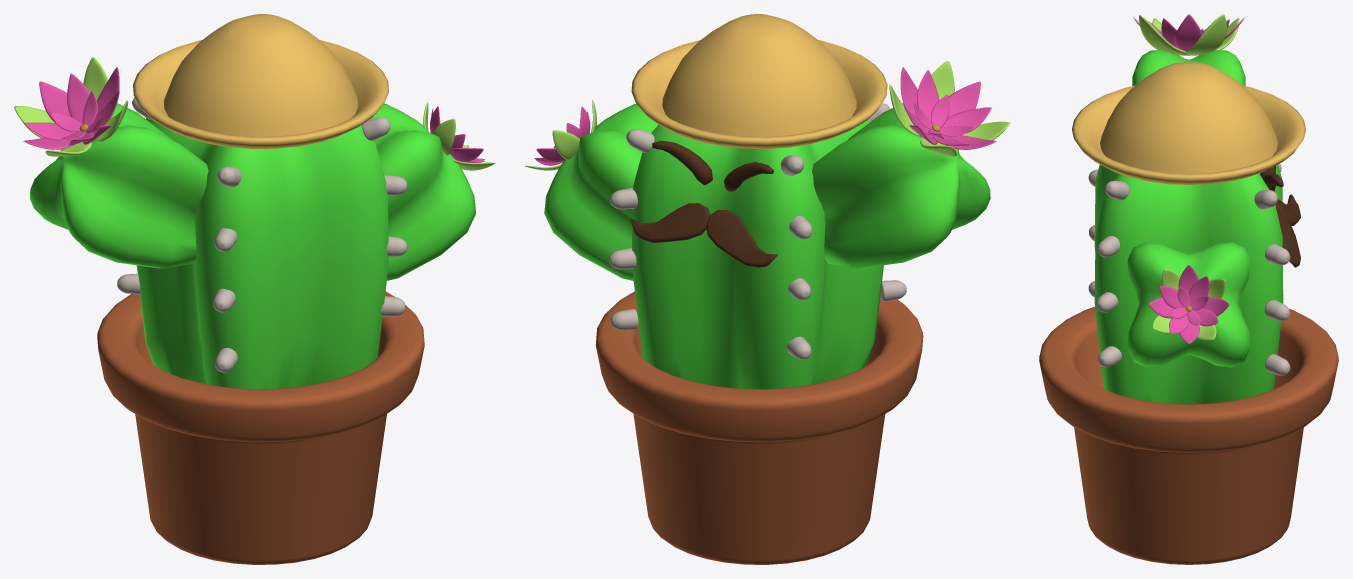
The model's file is cactus.fbx.
3 renders of one model, left to right at view 1: azimuth 30°, elevation 25°; view 2: azimuth 150°, elevation 25°; view 3: azimuth 270°, elevation 25°, orthographic. The views are drawn at different scales.
Parts seen in each view (by area): view 1: Senor Cactus; view 2: Senor Cactus; view 3: Senor Cactus.
Part boxes in pixels (box(x1,y1,x2,y2)): Senor Cactus: box(14, 14, 495, 564); Senor Cactus: box(525, 14, 1010, 564); Senor Cactus: box(1039, 14, 1338, 564).
Bounding box in the file's own units: 116 × 120 × 71.44.
